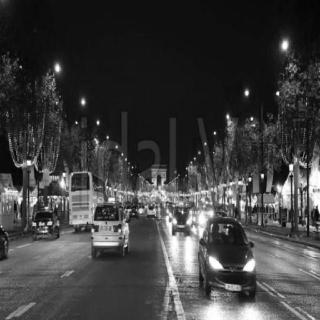other: (76, 97, 89, 111), (171, 214, 177, 228)
